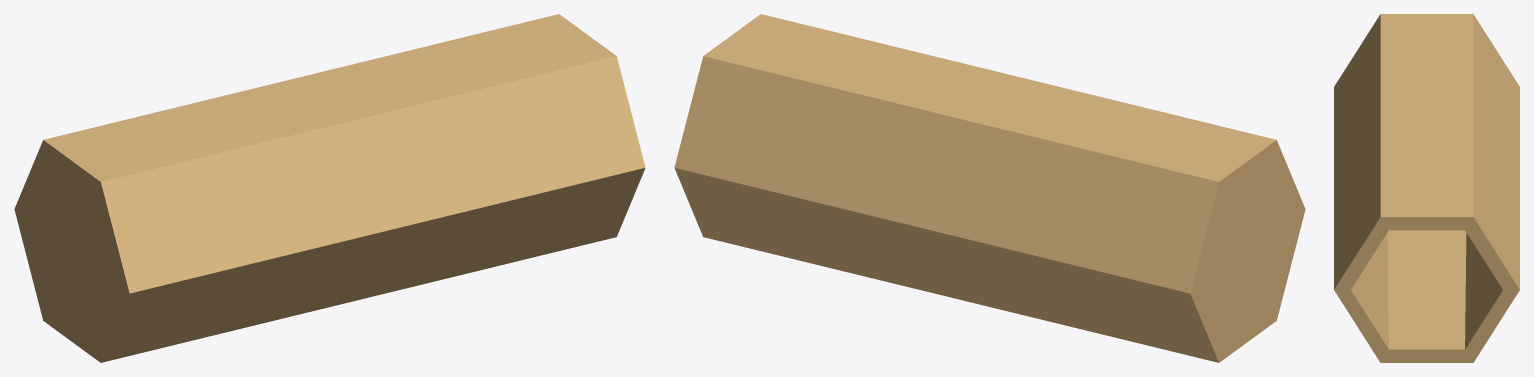
File: Bullet_03_2.fbx
3 views of the same model, side by side, from view 1: azimuth 30°, elevation 25°; view 2: azimuth 150°, elevation 25°; view 3: azimuth 270°, elevation 25° (orthographic). The views are drawn at different scales.
Visible parts, largest first — view 1: Bullet_03_2; view 2: Bullet_03_2; view 3: Bullet_03_2.
Part boxes in pixels (left/top/right/bottom): Bullet_03_2: left=14, top=14, right=645, bottom=362; Bullet_03_2: left=674, top=14, right=1305, bottom=362; Bullet_03_2: left=1334, top=14, right=1519, bottom=362.
Size of the model in its own units: 0.0312 by 0.0105 by 0.0121.
